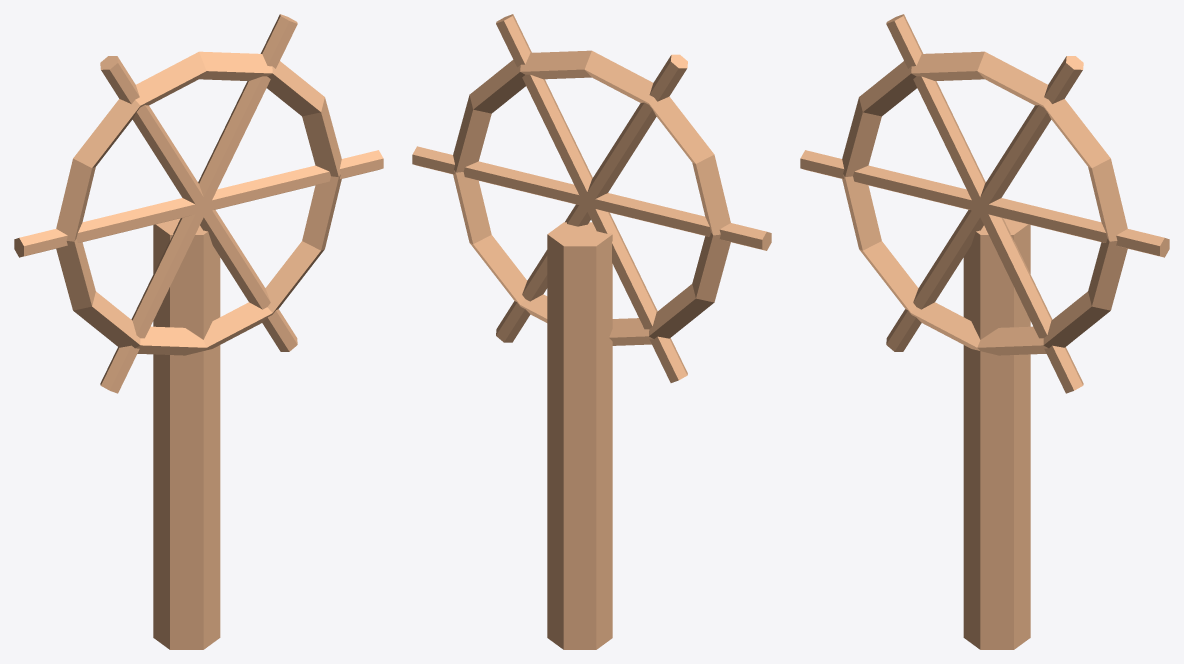
The picture shows the model from 3 angles, left to right: view 1: azimuth 30°, elevation 25°; view 2: azimuth 150°, elevation 25°; view 3: azimuth 330°, elevation 25°; orthographic projection. The views are drawn at different scales.
Visible parts, largest first — view 1: Column, Torus, Spoke.001, Spoke.004, Spoke.002, Spoke.003, Spoke, Spoke.005; view 2: Column, Torus, Spoke.001, Spoke.004, Spoke.002, Spoke.003, Spoke, Spoke.005; view 3: Column, Torus, Spoke.002, Spoke.005, Spoke.001, Spoke, Spoke.003, Spoke.004.
Part boxes in pixels (left/top/right/bottom): Column: left=153, top=218, right=220, bottom=649; Torus: left=56, top=51, right=341, bottom=355; Spoke.001: left=198, top=14, right=297, bottom=208; Spoke.004: left=100, top=210, right=205, bottom=393; Spoke.002: left=100, top=56, right=206, bottom=210; Spoke.003: left=14, top=198, right=203, bottom=257; Spoke: left=203, top=150, right=383, bottom=211; Spoke.005: left=200, top=204, right=297, bottom=351; Column: left=547, top=222, right=612, bottom=649; Torus: left=453, top=50, right=730, bottom=345; Spoke.001: left=496, top=14, right=592, bottom=202; Spoke.004: left=584, top=201, right=687, bottom=382; Spoke.002: left=587, top=54, right=687, bottom=204; Spoke.003: left=587, top=193, right=771, bottom=250; Spoke: left=412, top=146, right=587, bottom=205; Spoke.005: left=496, top=199, right=590, bottom=342; Column: left=963, top=218, right=1030, bottom=649; Torus: left=842, top=51, right=1127, bottom=355; Spoke.002: left=886, top=14, right=985, bottom=208; Spoke.005: left=979, top=210, right=1083, bottom=393; Spoke.001: left=976, top=56, right=1083, bottom=210; Spoke: left=980, top=198, right=1169, bottom=257; Spoke.003: left=800, top=150, right=980, bottom=211; Spoke.004: left=886, top=208, right=983, bottom=351.
Size of the model in its own units: 68 by 110 by 12.
